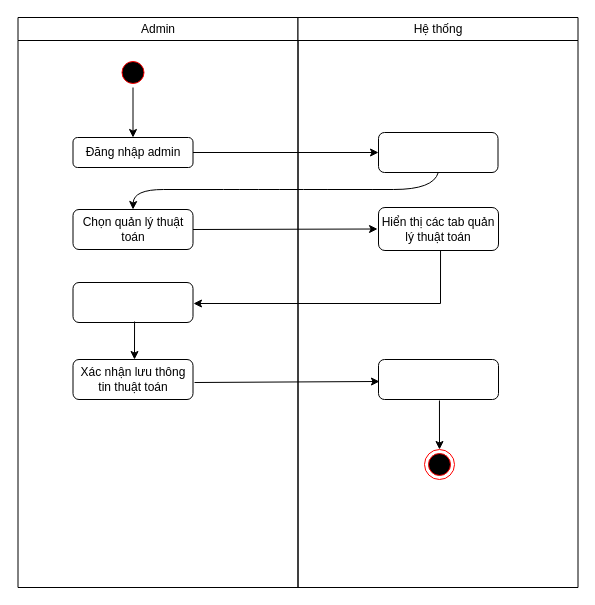
The diagram is 595 pixels wide and 605 high, and some of its shapes have lost their labels. Here are the shapes that lost their labels. From the top down, the centre of each, then its label:
[438,152]: Xác nhận đăng nhập thành công
[132,302]: Thực hiện thêm, cập nhật thuật toán
[438,379]: Cập nhật trong cơ sở dữ liệu
